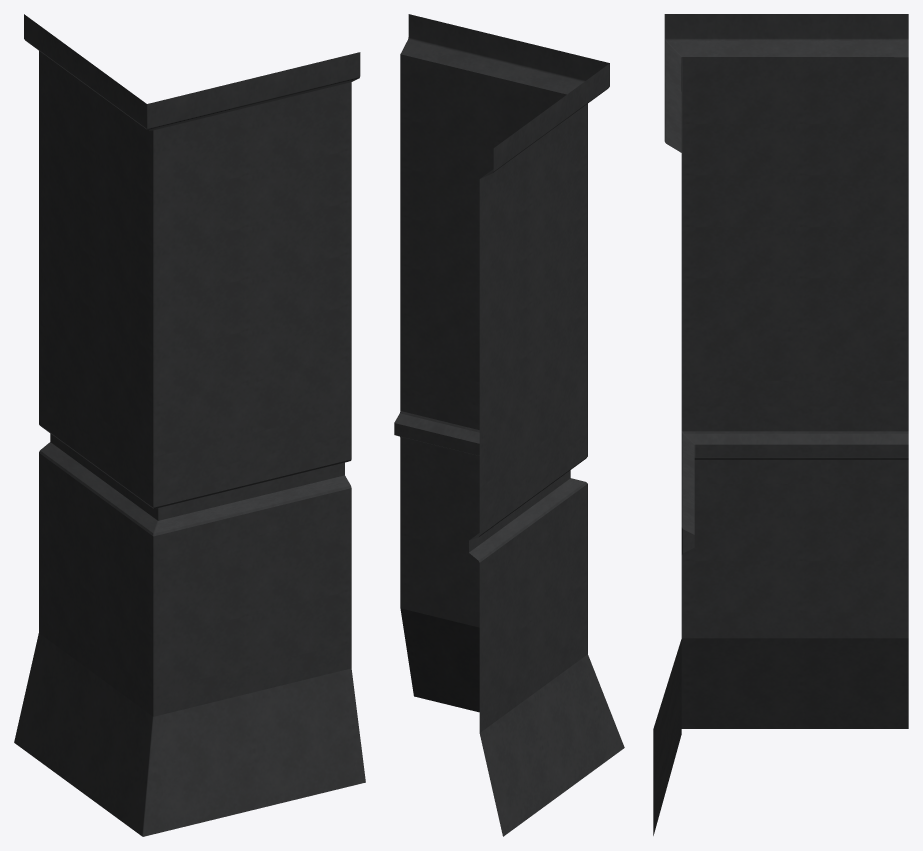
File: M_Wall_Convex_Corner_4x14_v3.fbx
3 views of the same model, side by side, from view 1: azimuth 30°, elevation 25°; view 2: azimuth 150°, elevation 25°; view 3: azimuth 270°, elevation 25° (orthographic). The views are drawn at different scales.
Visible parts, largest first — view 1: Wall_Corner_Convex_4x14_v2; view 2: Wall_Corner_Convex_4x14_v2; view 3: Wall_Corner_Convex_4x14_v2.
Boxes of the visible parts, x1,y1,x2,y2 form: Wall_Corner_Convex_4x14_v2: (14, 14, 365, 836); Wall_Corner_Convex_4x14_v2: (394, 14, 624, 836); Wall_Corner_Convex_4x14_v2: (653, 14, 908, 835).
Bounding box in the file's own units: 450 × 1400 × 450.
